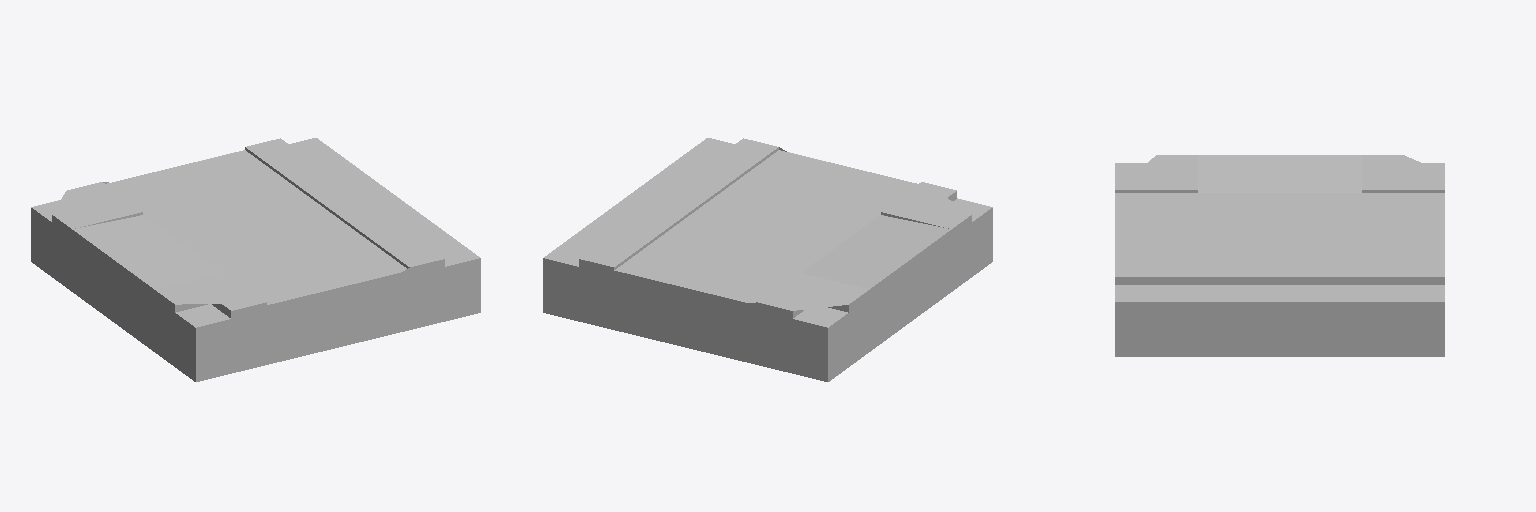
The model's file is roadTile_1493.obj.
3 views of the same model, side by side, from view 1: azimuth 30°, elevation 25°; view 2: azimuth 150°, elevation 25°; view 3: azimuth 270°, elevation 25° (orthographic).
Parts seen in each view (by area): view 1: Mesh1_Group1_Model.005; view 2: Mesh1_Group1_Model.005; view 3: Mesh1_Group1_Model.005.
Part boxes in pixels (x1,y1,x2,y2): Mesh1_Group1_Model.005: (31, 138, 480, 381); Mesh1_Group1_Model.005: (543, 138, 992, 381); Mesh1_Group1_Model.005: (1115, 155, 1444, 356).
Bounding box in the file's own units: 1.08 × 0.2268 × 1.08.